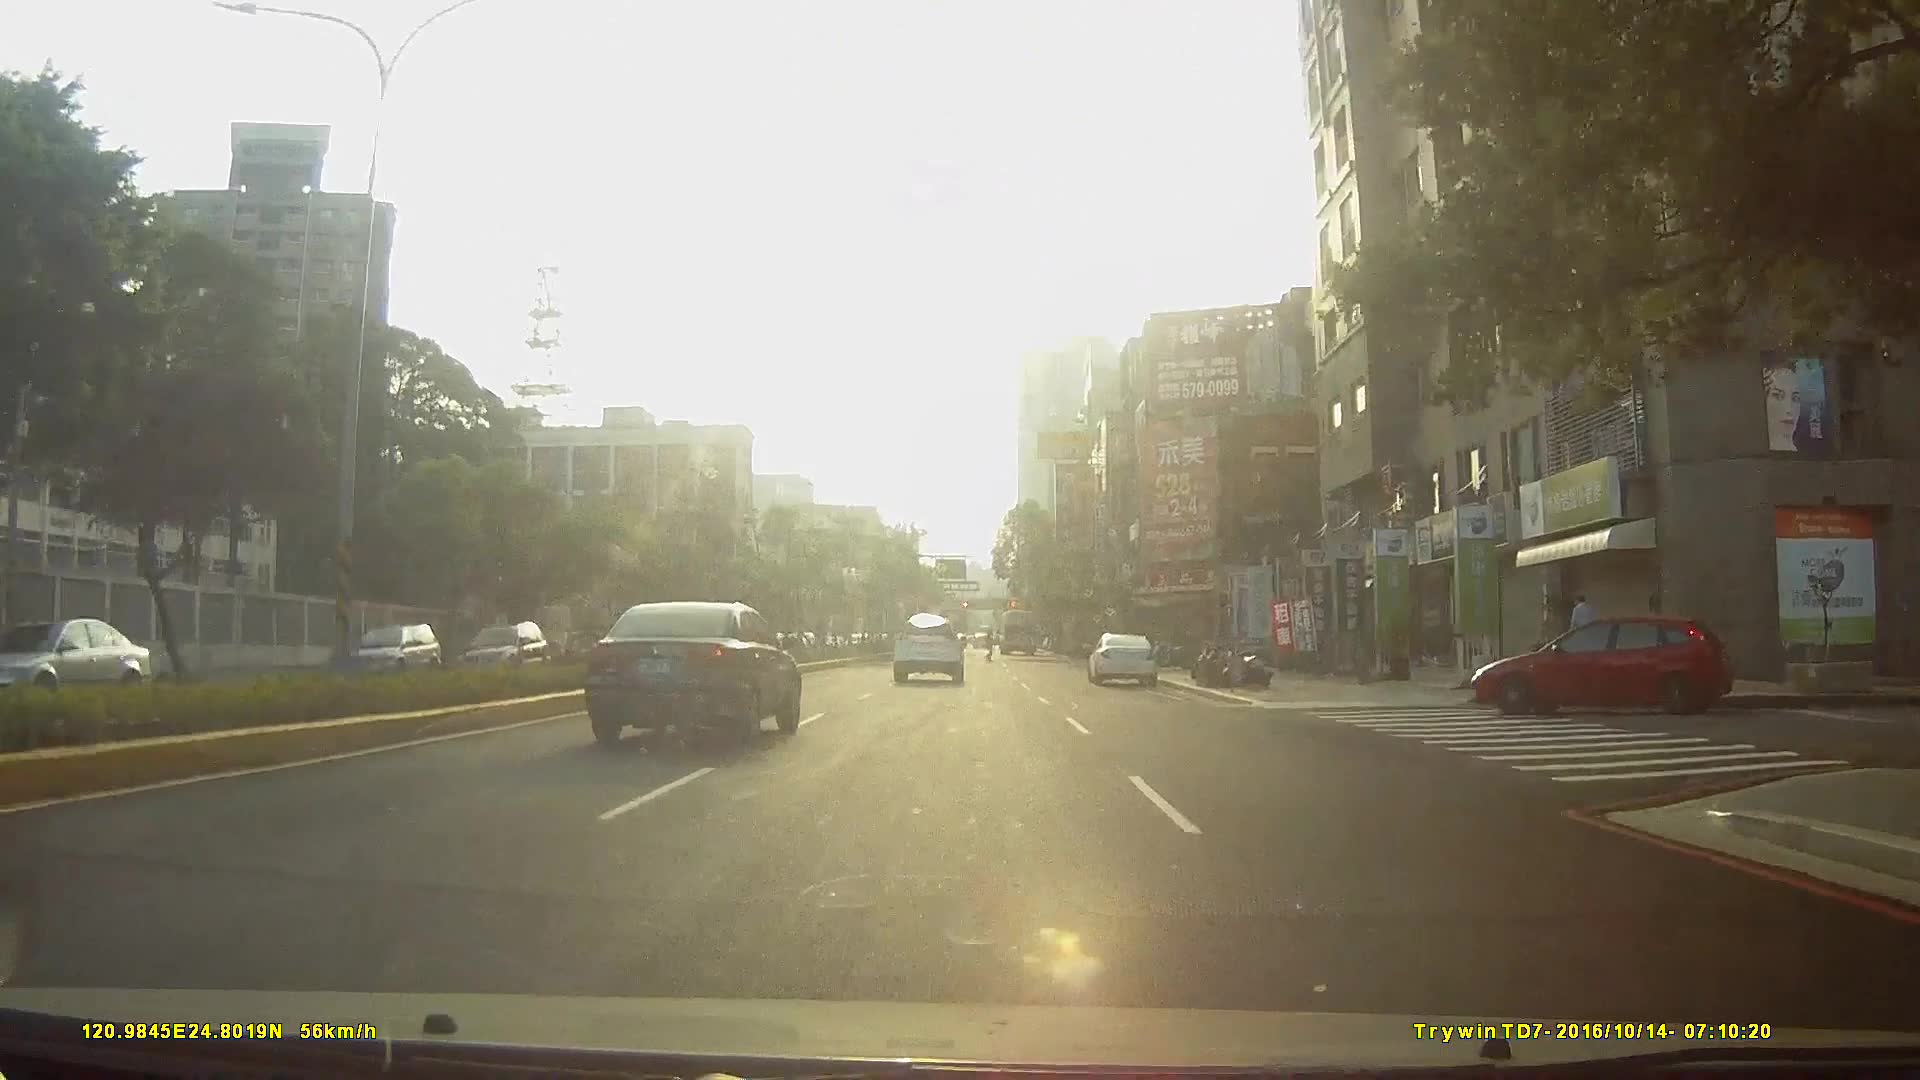pedestrian: (1567, 592, 1597, 670)
vehicle: (1462, 605, 1744, 718), (588, 597, 804, 742), (1, 613, 172, 704), (338, 611, 445, 675), (443, 619, 543, 680), (890, 610, 965, 681), (1086, 629, 1161, 683), (995, 603, 1039, 652)
